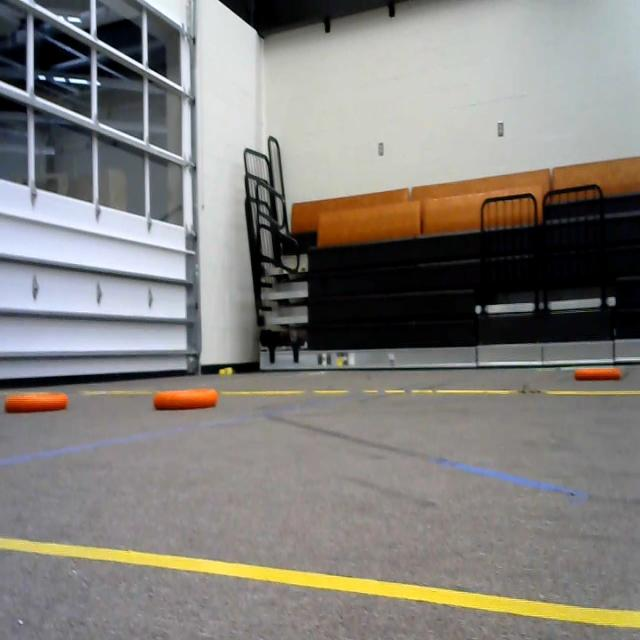note: (3, 385, 79, 420), (146, 382, 226, 413), (569, 361, 623, 387)
